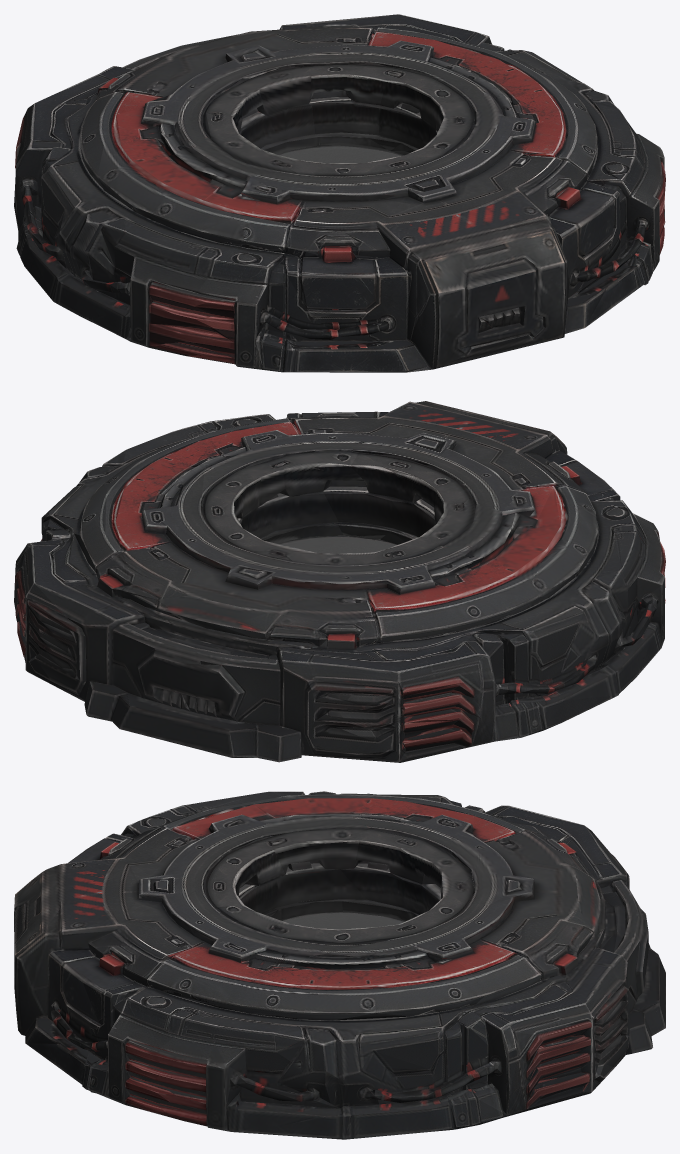
File: autocannon_base.glb
3 views of the same model, one above another, from view 1: azimuth 30°, elevation 25°; view 2: azimuth 150°, elevation 25°; view 3: azimuth 270°, elevation 25° (orthographic).
Visible parts, largest first — view 1: output_unwrapped; view 2: output_unwrapped; view 3: output_unwrapped.
Boxes of the visible parts, x1,y1,x2,y2 form: output_unwrapped: [14, 14, 665, 372]; output_unwrapped: [14, 401, 665, 762]; output_unwrapped: [14, 791, 665, 1139].
Bounding box in the file's own units: 1.9 × 0.3807 × 1.9.
1 material, 1 textured.
